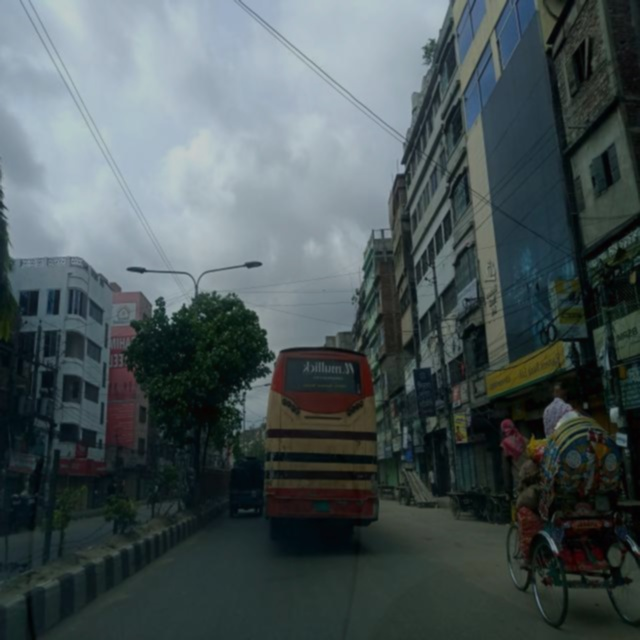bicycle: (494, 389, 640, 637)
bus: (245, 330, 397, 554)
